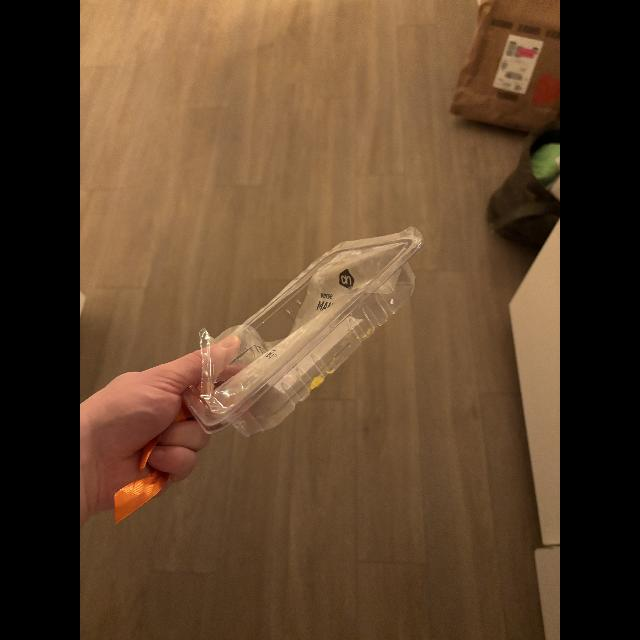Plastic: (188, 225, 424, 430), (110, 442, 172, 526)
